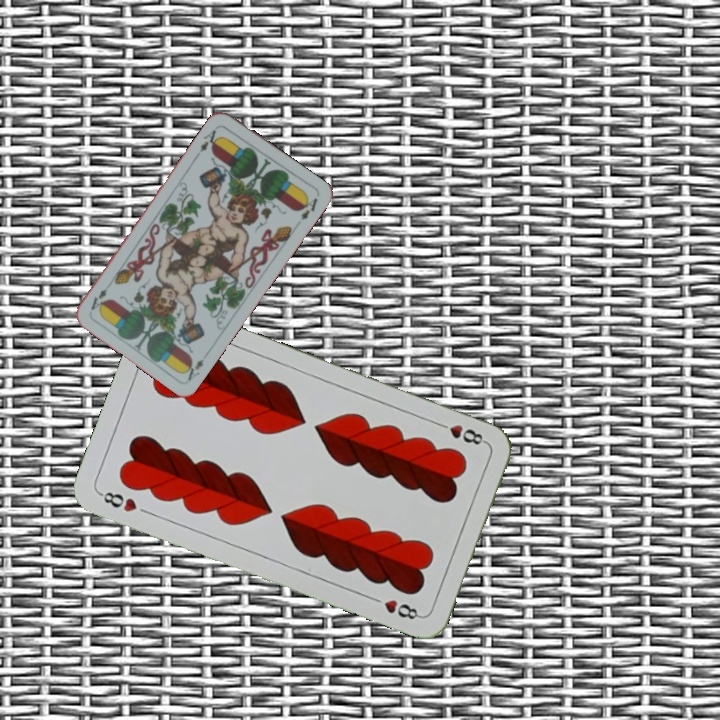EA: (179, 348, 211, 384), (193, 126, 223, 158)
H8: (432, 418, 489, 448), (95, 487, 140, 515)
